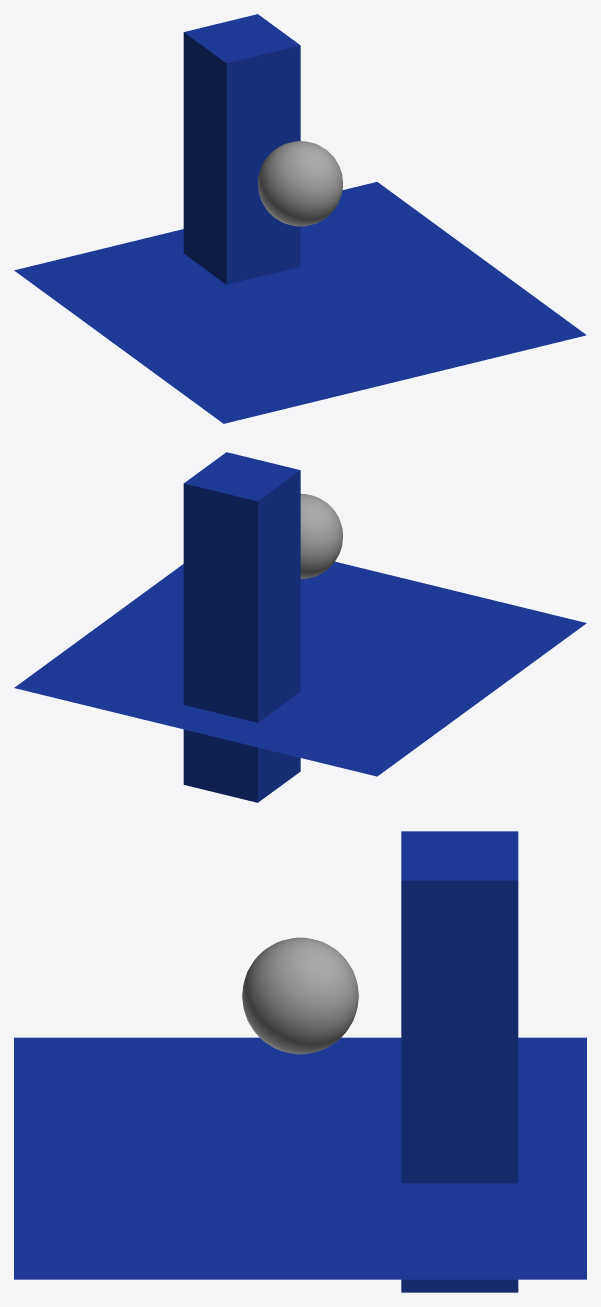
3 renders of one model, top to bottom at view 1: azimuth 30°, elevation 25°; view 2: azimuth 150°, elevation 25°; view 3: azimuth 270°, elevation 25°, orthographic. The views are drawn at different scales.
Visible parts, largest first — view 1: 平面_平面.001; view 2: 平面_平面.001; view 3: 平面_平面.001.
Boxes of the visible parts, box(x1,y1,x2,y2) form: 平面_平面.001: box(14, 14, 586, 423); 平面_平面.001: box(14, 452, 586, 802); 平面_平面.001: box(14, 831, 586, 1292).
Size of the model in its own units: 9.81 by 7.78 by 9.81.
